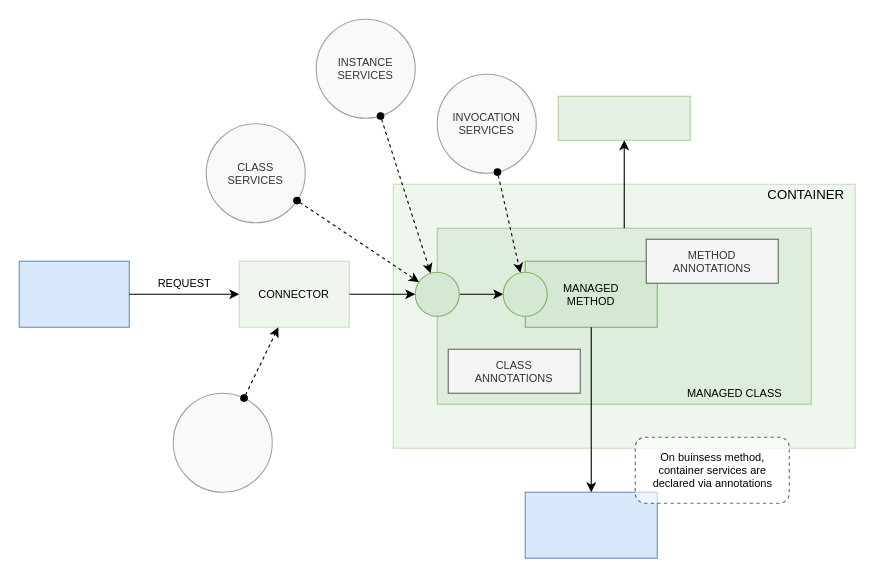
This 875x578 diagram has some shape labels left out. Each missing label, with the centre of its shape:
"BUSINESS METHOD" goes at (590,524).
"CLIENT" goes at (73,293).
"CONNECTION SERVICES" goes at (222,442).
"INTERFACE" goes at (623,117).
